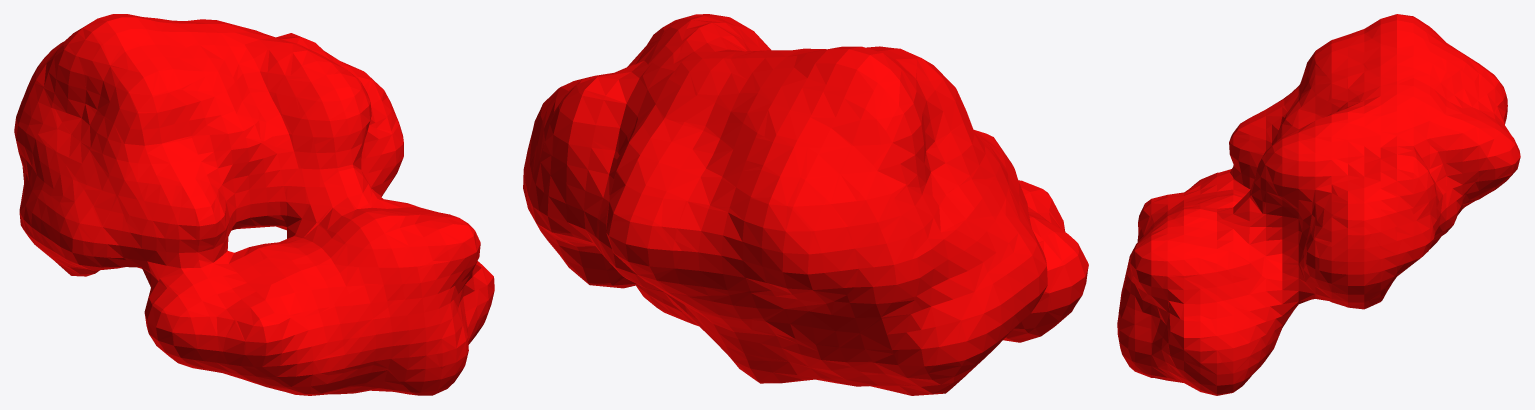
File: rnc_coarse.dae
The picture shows the model from 3 angles, left to right: view 1: azimuth 30°, elevation 25°; view 2: azimuth 150°, elevation 25°; view 3: azimuth 270°, elevation 25°; orthographic projection. The views are drawn at different scales.
Visible parts, largest first — view 1: rnc; view 2: rnc; view 3: rnc.
Part boxes in pixels (<box>): rnc: <box>14,14,494,395</box>; rnc: <box>523,14,1088,395</box>; rnc: <box>1117,14,1520,395</box>.
Size of the model in its own units: 54.52 by 46.16 by 60.09.
